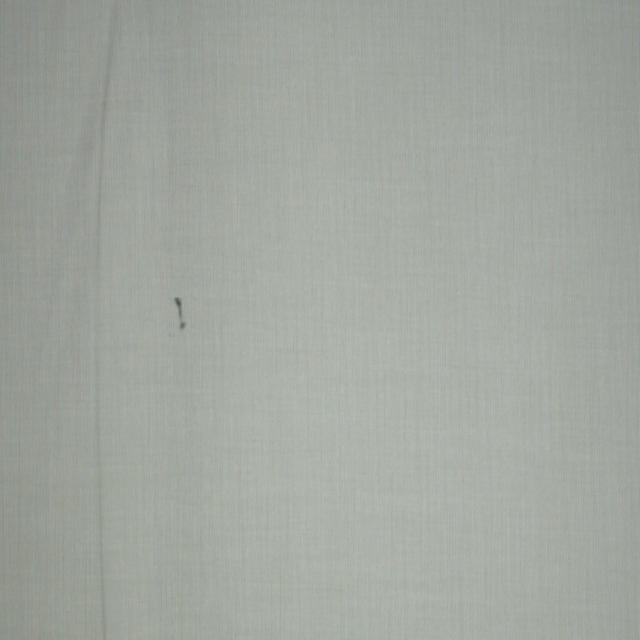dirty: (174, 296, 186, 332)
